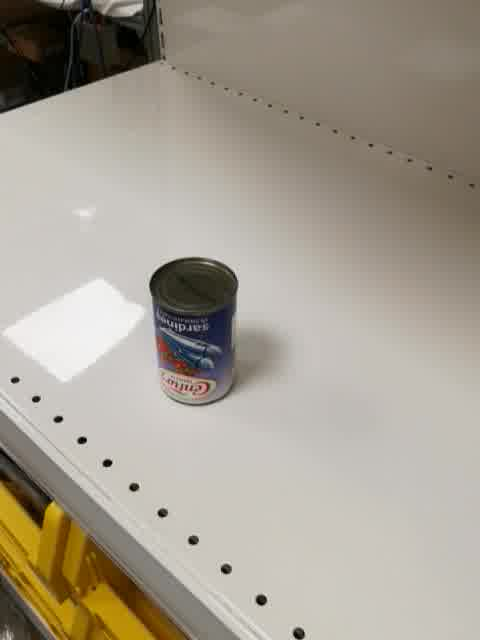sardine: (149, 256, 239, 408)
